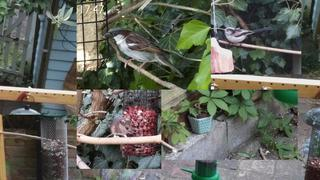long tailed tit: (223, 27, 275, 47)
mouse: (94, 116, 135, 146)
sparrow: (103, 27, 184, 77)
